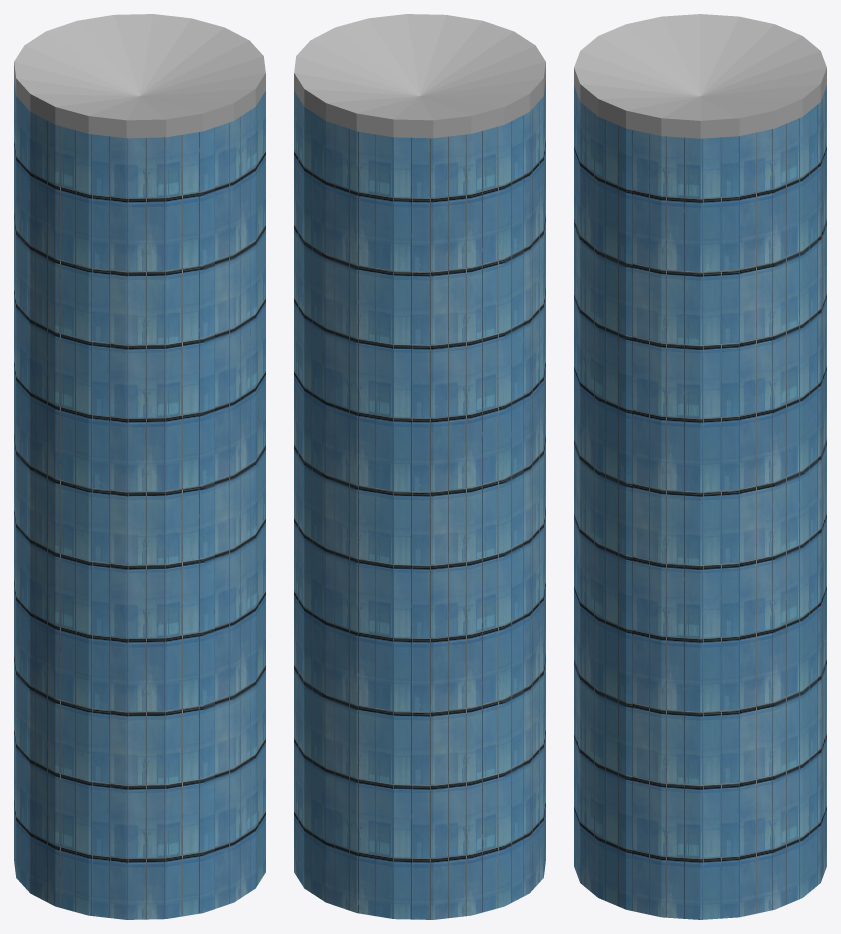
The model's file is Building 6.fbx.
3 renders of one model, left to right at view 1: azimuth 30°, elevation 25°; view 2: azimuth 150°, elevation 25°; view 3: azimuth 270°, elevation 25°, orthographic.
Visible parts, largest first — view 1: pCylinder2; view 2: pCylinder2; view 3: pCylinder2.
Boxes of the visible parts, box(x1,y1,x2,y2) form: pCylinder2: box(14, 14, 265, 919); pCylinder2: box(294, 14, 545, 919); pCylinder2: box(574, 14, 826, 919).
Size of what is drawn, in the model's own units: 0.02 by 0.0697 by 0.02.
2 materials, 1 textured.
